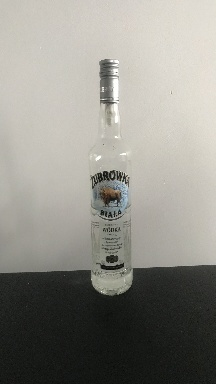butelka: (86, 55, 134, 298)
